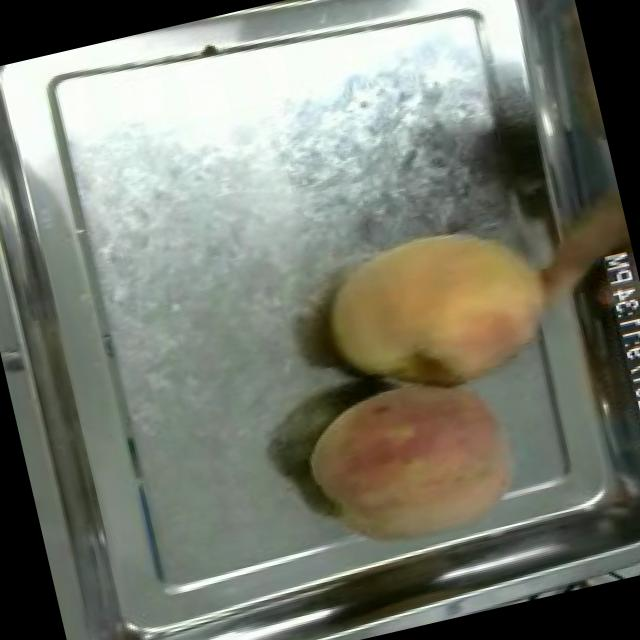Fruit: (298, 196, 574, 414), (285, 350, 542, 579)
